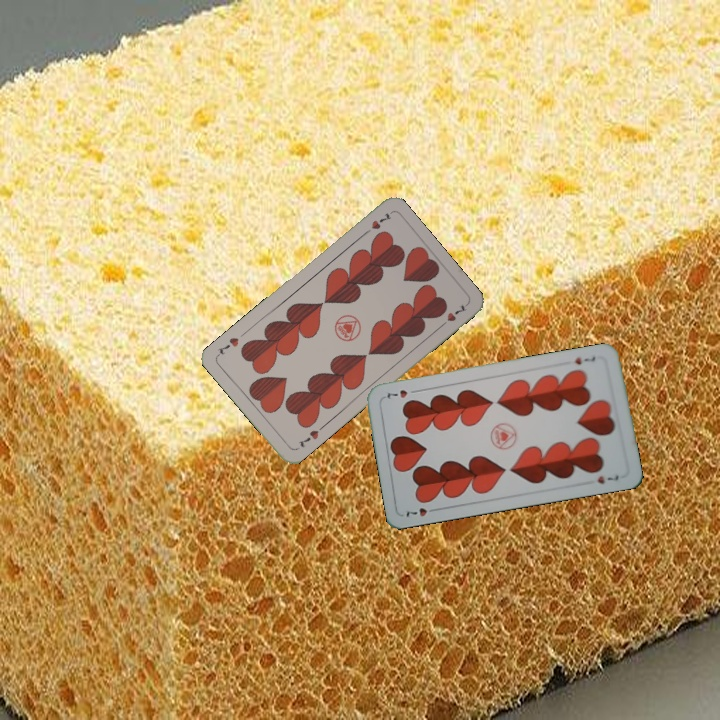H7: (359, 208, 394, 238), (294, 426, 321, 450), (400, 504, 441, 519), (571, 353, 598, 367)
